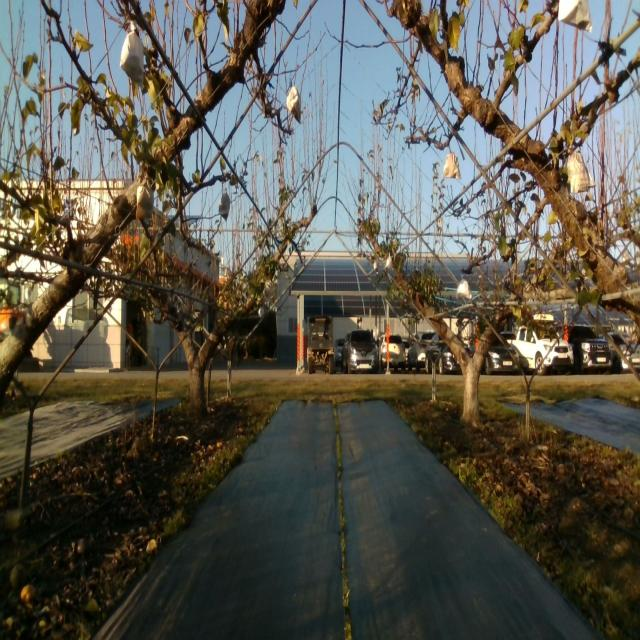pearbags: (120, 21, 144, 90), (565, 149, 596, 195), (557, 0, 592, 32), (135, 174, 154, 218), (286, 79, 301, 124), (442, 148, 461, 179), (218, 188, 230, 223), (456, 275, 472, 301)
